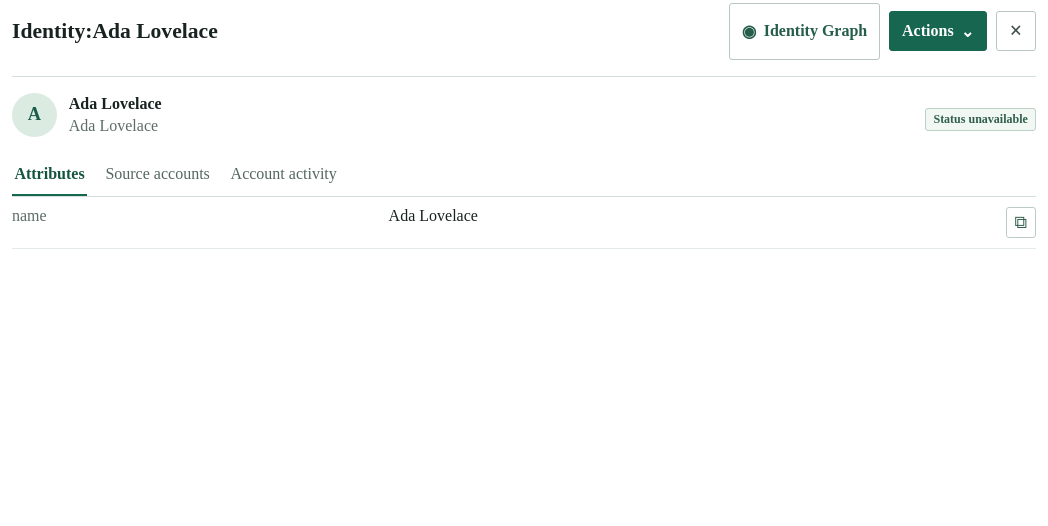
IdentityExplorerComponent › shows the graph link, action menu, and close-to-search control for a selected identity
Expected: the button named "Exit to identity search" is shown, 996,11 -> 1036,51
Click the button with class "actions__trigger": click(938, 31) 889,11 -> 987,51
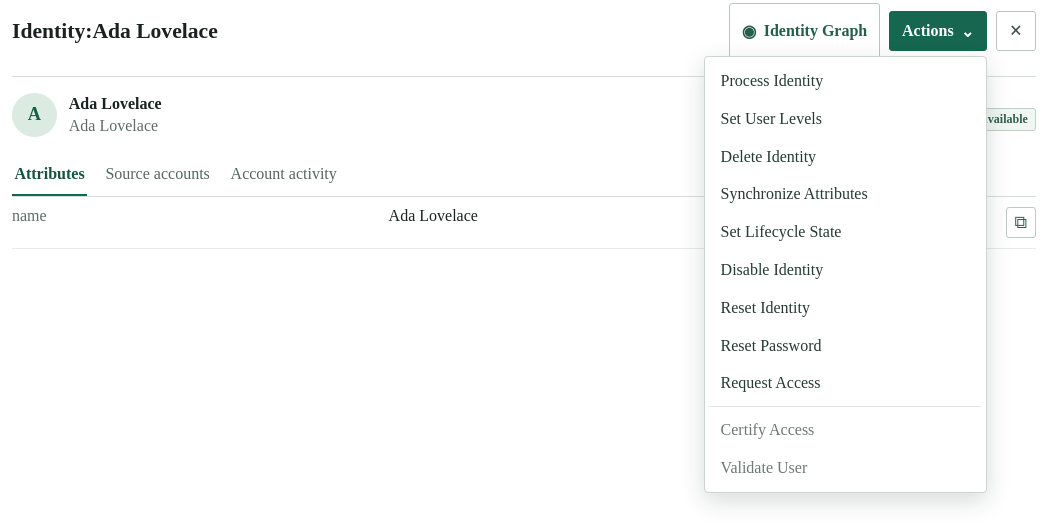
Expected: the menu shows "Process Identity", 709,62 -> 981,100
Expected: the menu shows "Set User Levels", 709,100 -> 981,138
Expected: the menu shows "Delete Identity", 709,138 -> 981,175
